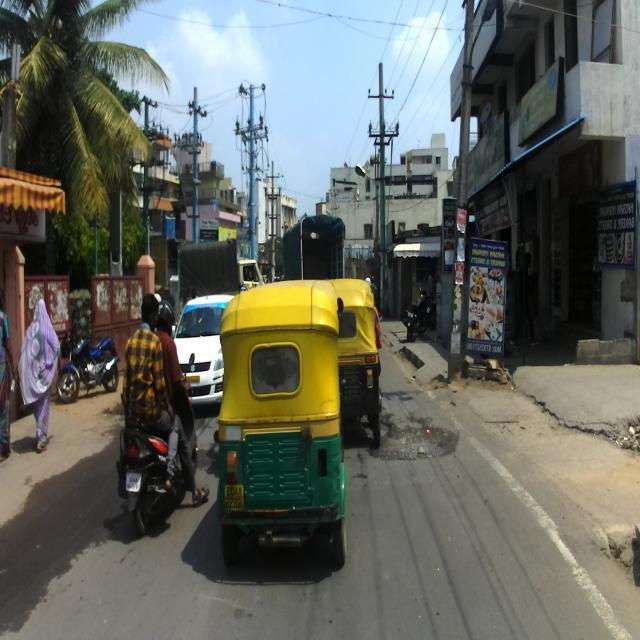pothole: (382, 410, 467, 470)
